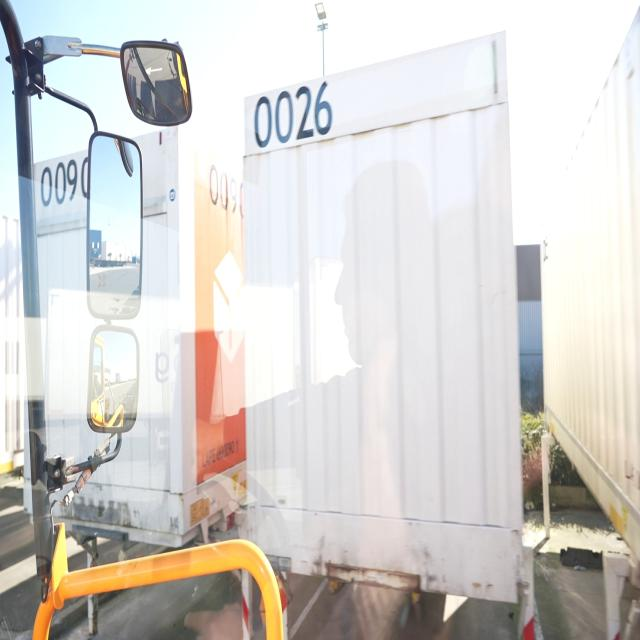Code: (248, 70, 341, 158)
